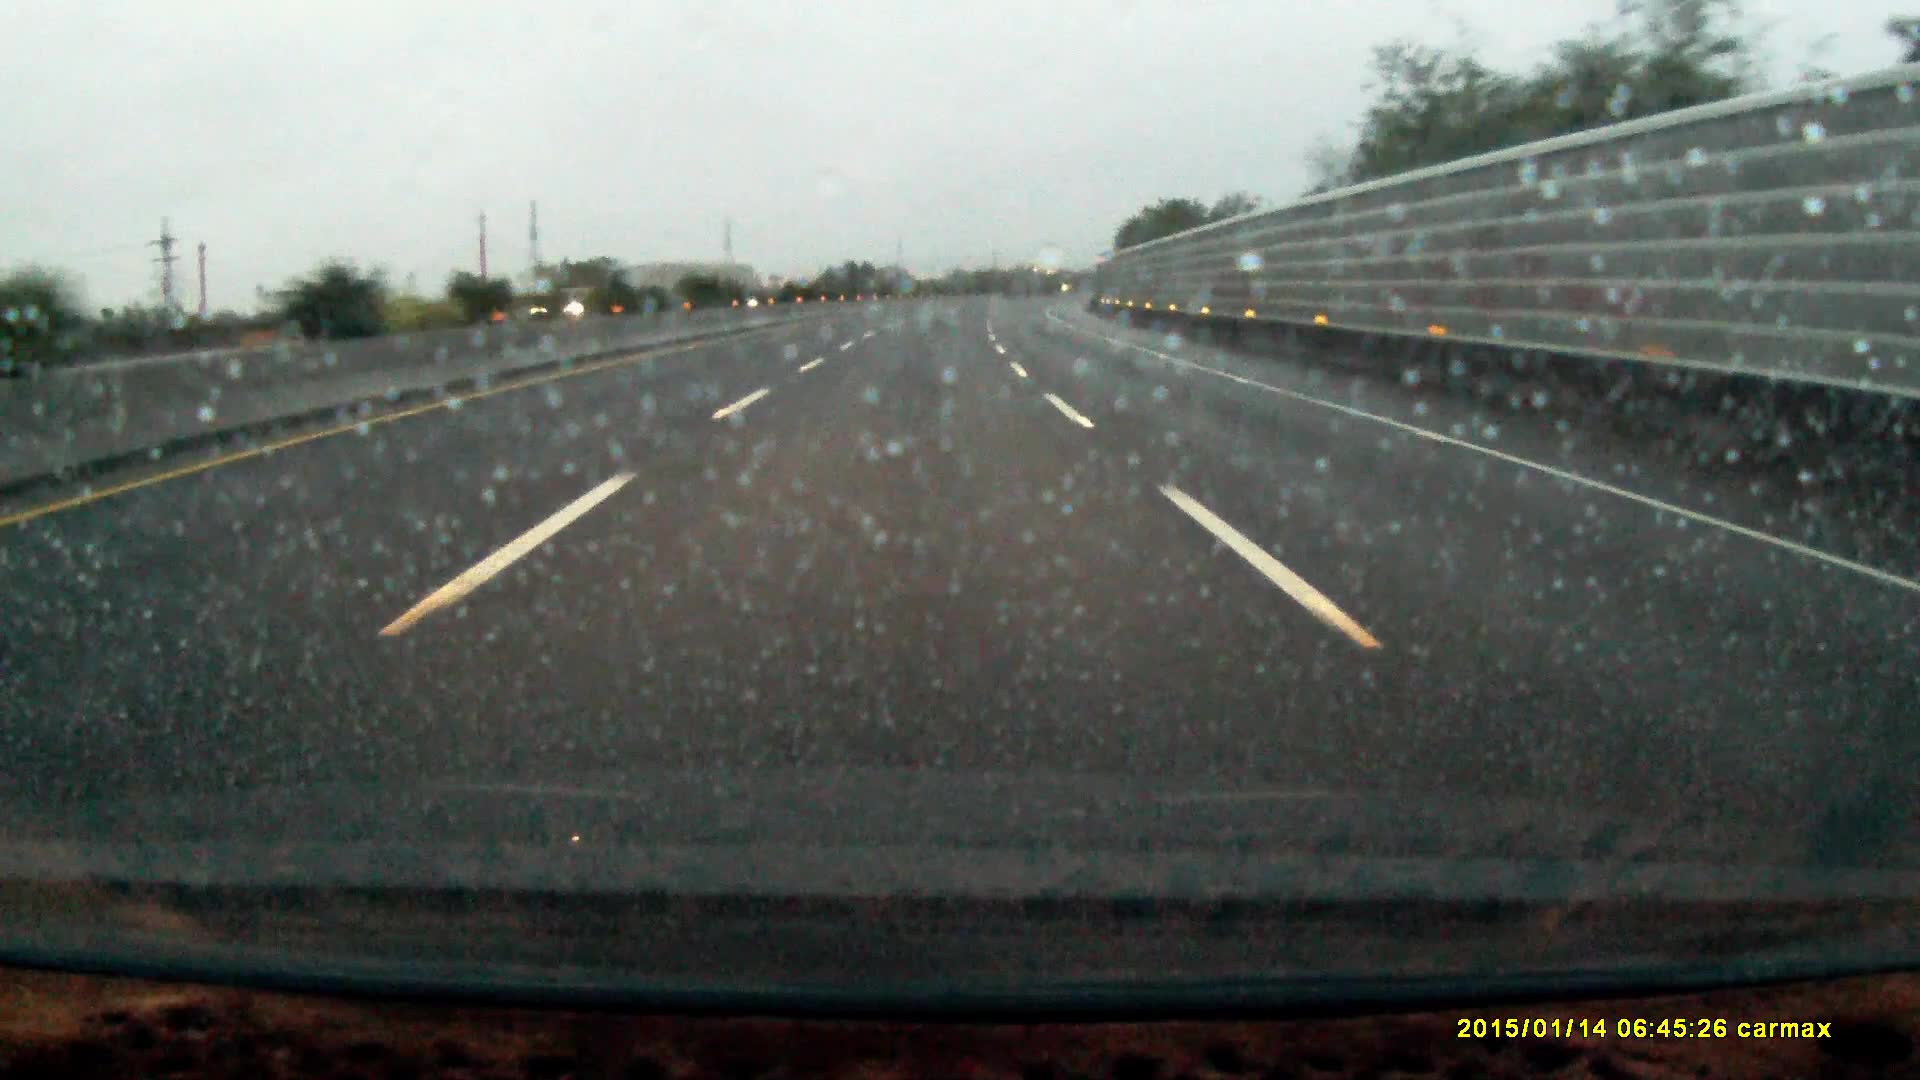vehicle: (524, 286, 604, 320)
